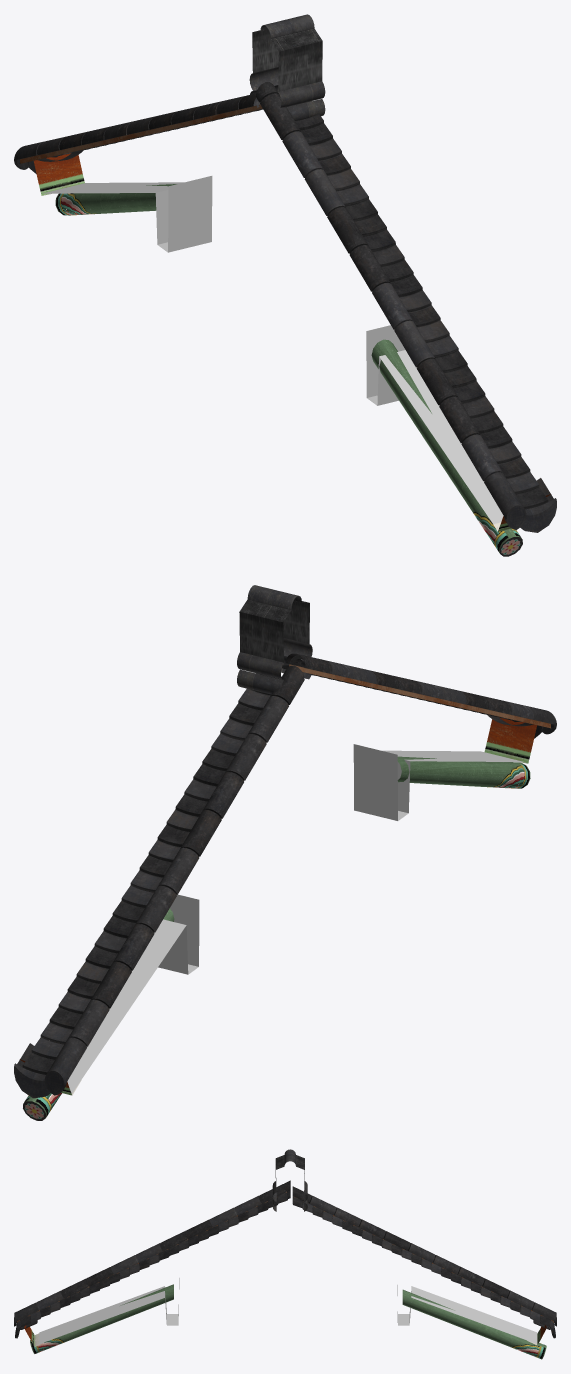
Rendered from SM_Giwa01B_a3.fbx.
3 renders of one model, top to bottom at view 1: azimuth 30°, elevation 25°; view 2: azimuth 150°, elevation 25°; view 3: azimuth 270°, elevation 25°, orthographic. The views are drawn at different scales.
Parts seen in each view (by area): view 1: SM_Giwa01B_a3; view 2: SM_Giwa01B_a3; view 3: SM_Giwa01B_a3.
Part boxes in pixels (<box>): SM_Giwa01B_a3: <box>14,14,556,556</box>; SM_Giwa01B_a3: <box>14,585,556,1120</box>; SM_Giwa01B_a3: <box>14,1149,556,1359</box>.
Bounding box in the file's own units: 38.08 × 596 × 243.
